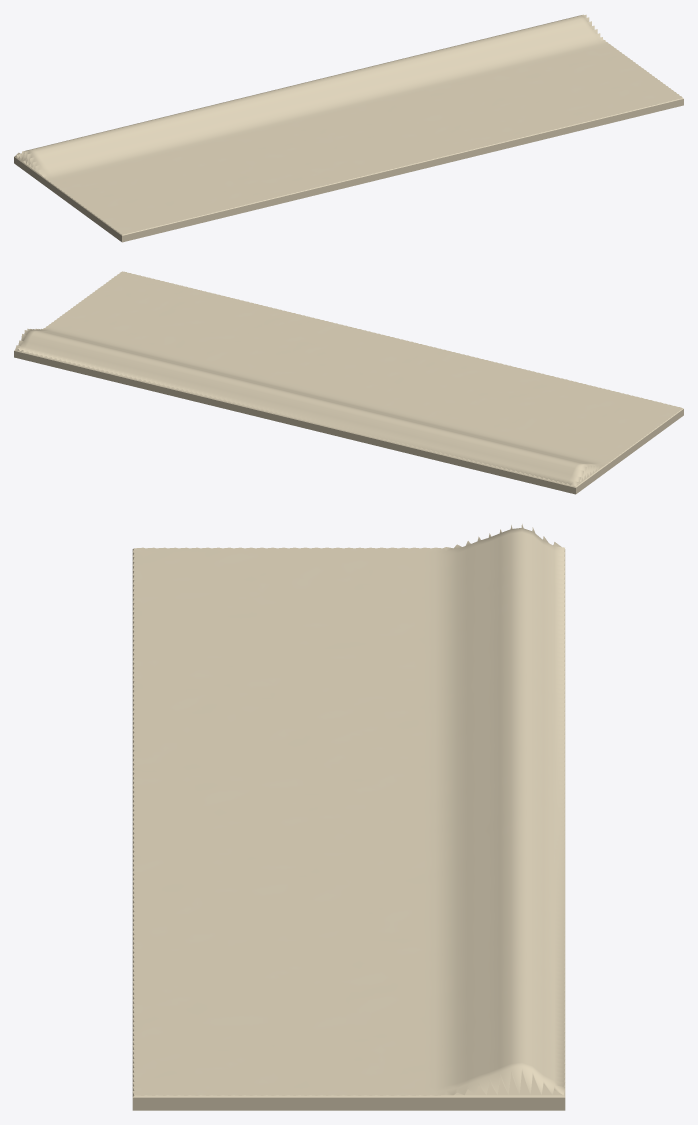
The model's file is mahsulot.glb.
3 renders of one model, top to bottom at view 1: azimuth 30°, elevation 25°; view 2: azimuth 150°, elevation 25°; view 3: azimuth 270°, elevation 25°, orthographic. The views are drawn at different scales.
Visible parts, largest first — view 1: mahsulot; view 2: mahsulot; view 3: mahsulot.
Part boxes in pixels (x1,y1,x2,y2): mahsulot: [14, 14, 683, 242]; mahsulot: [14, 271, 683, 494]; mahsulot: [132, 524, 565, 1110].
Bounding box in the file's own units: 1.2 × 0.04 × 0.4.
